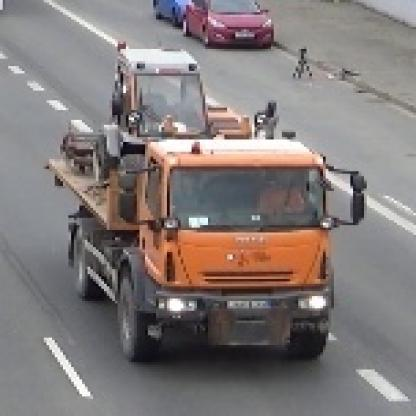truck: (39, 35, 365, 363)
